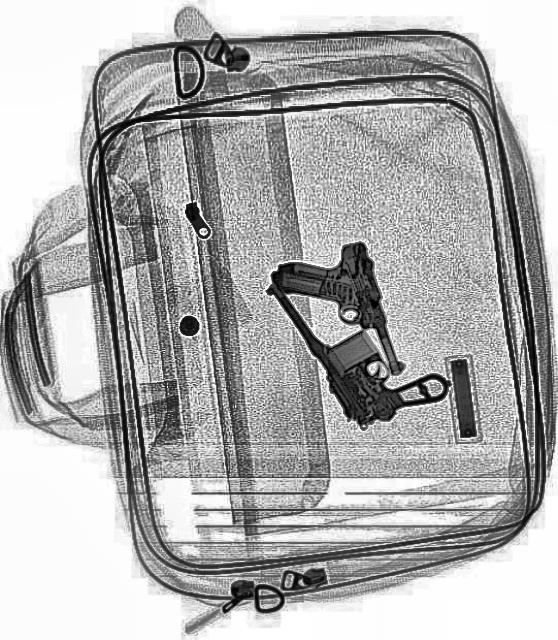Gun: (264, 226, 452, 449), (261, 234, 407, 406)
